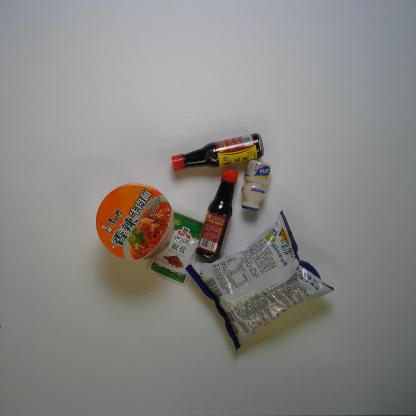Instant Noodles: (95, 182, 175, 262)
Milk: (240, 159, 272, 212)
Puffed Food: (184, 209, 334, 353)
Seasoner: (146, 208, 204, 288), (195, 168, 239, 263), (170, 132, 265, 172)
